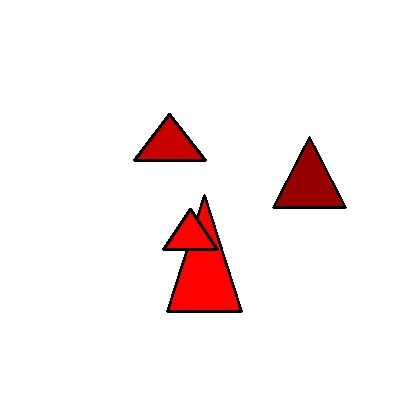triangle: (167, 195, 241, 311), (273, 137, 345, 207), (134, 114, 205, 160), (163, 209, 217, 249)
